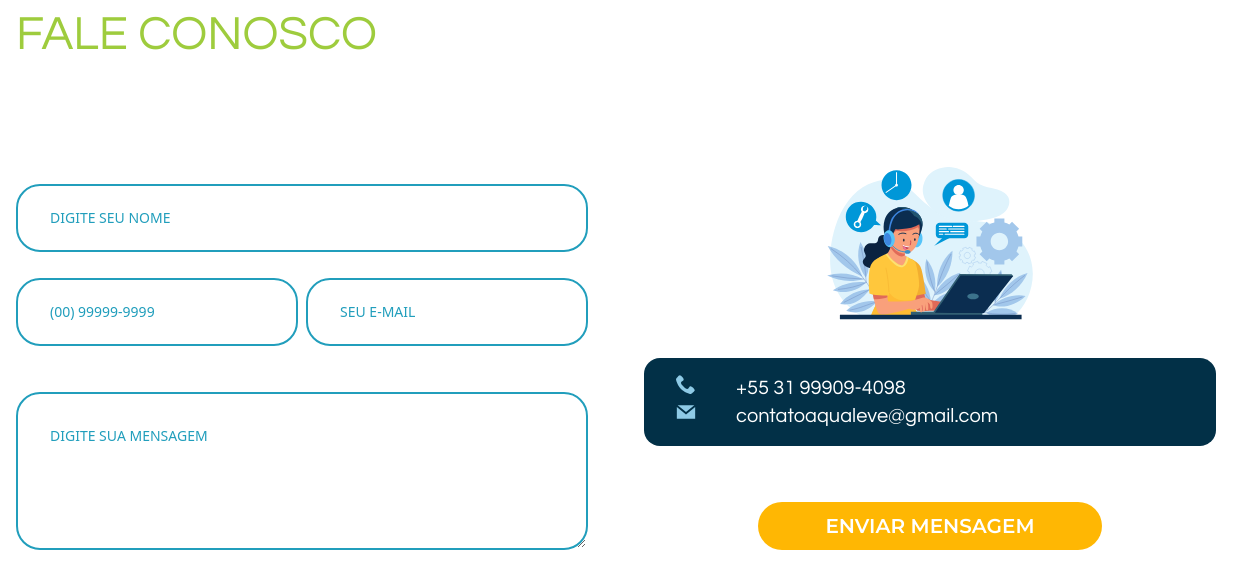
FaleConosco › posts directly to FormSubmit and clears fields on success
Type "Maria" into the field with placeholder "DIGITE SEU NOME".
click(302, 218); type("Maria")  # box [16,184,588,252]
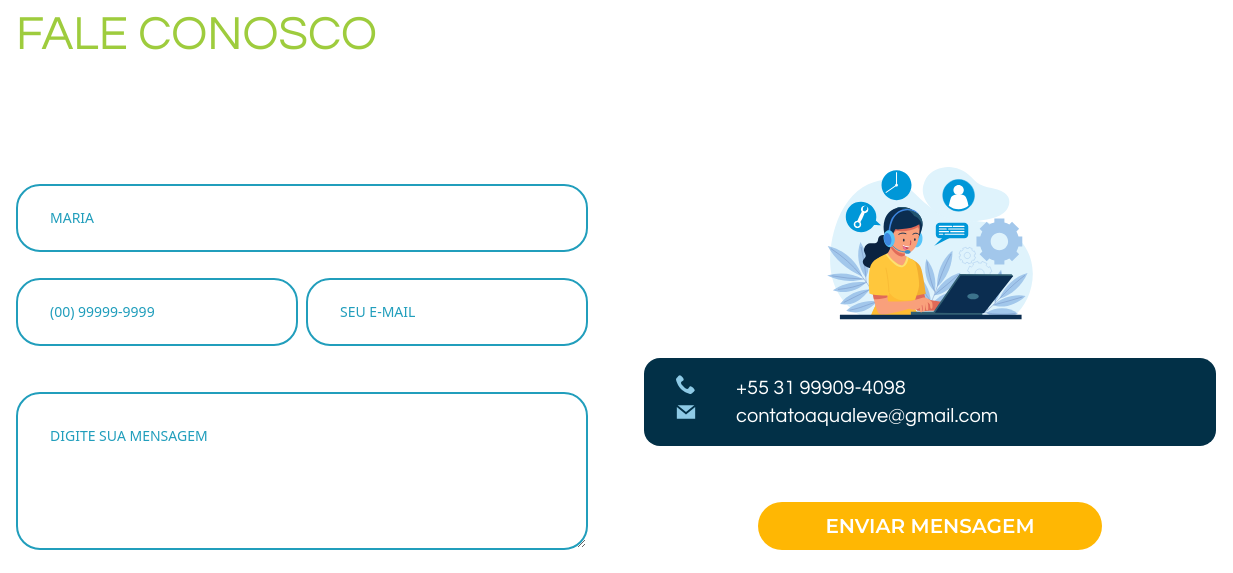
Type "maria@example.com" into the field with placeholder "SEU E-MAIL".
click(447, 312); type("maria@example.com")  # box [306,278,588,346]
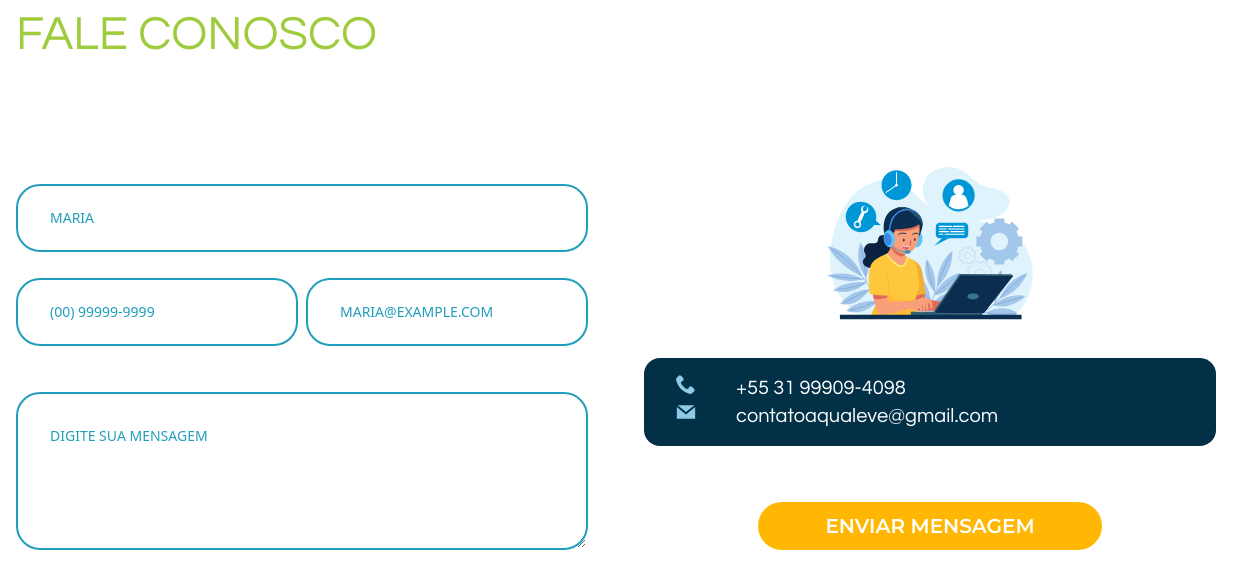
Type "Quero um orçamento completo." into the text box with placeholder "DIGITE SUA MENSAGEM".
click(302, 471); type("Quero um orçamento completo.")  # box [16,392,588,550]
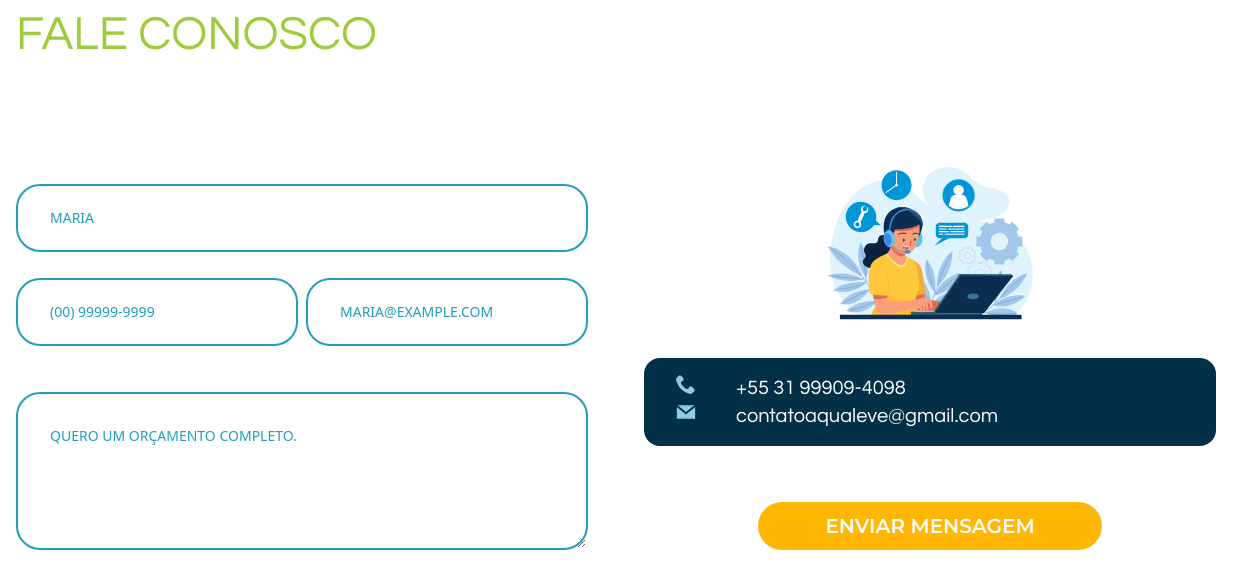
Submit the form with id "formulario-faleconosco"
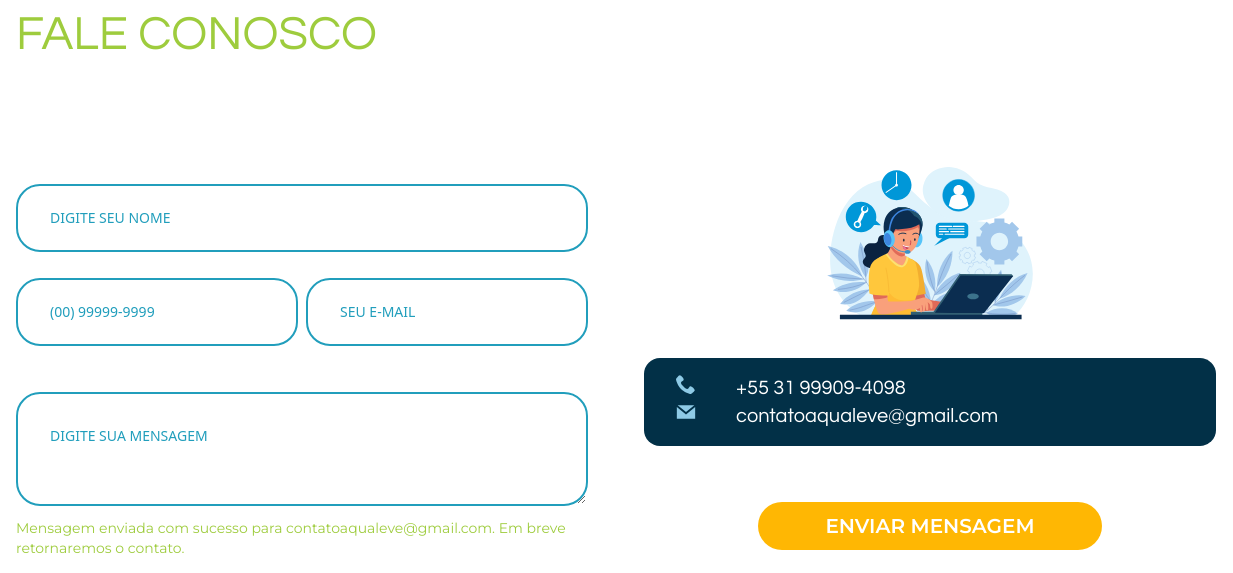
Expected: the field with placeholder "DIGITE SEU NOME" is empty, [16,184,588,252]
Expected: the text "Mensagem enviada com sucesso para contatoaqualeve@gmail.com" is shown, [16,519,566,557]
